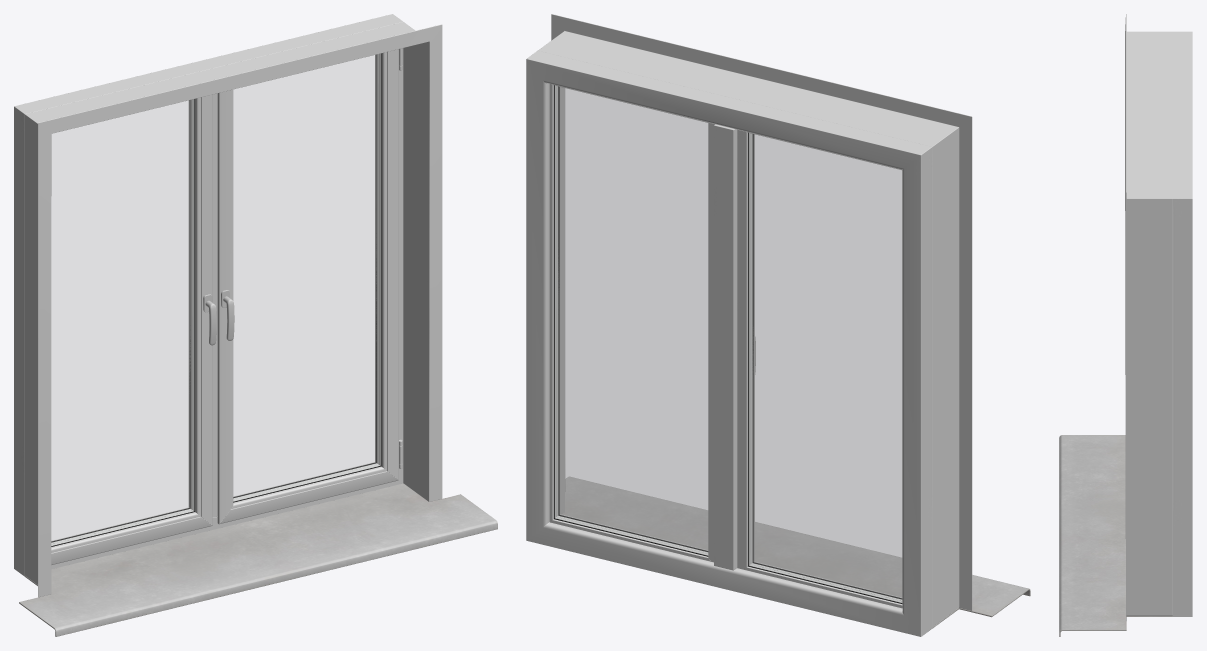
File: window.glb
3 renders of one model, left to right at view 1: azimuth 30°, elevation 25°; view 2: azimuth 150°, elevation 25°; view 3: azimuth 270°, elevation 25°, orthographic. The views are drawn at different scales.
Parts seen in each view (by area): view 1: InnerGlasses.001, InnerGlasses, OuterGlasses.001, OuterGlasses, WindowOuterFrame, WindowBottomFrame, Plane.025, Plane.023, Plane.029, Plane.028, Plane.024, Plane.032 (+3 smaller); view 2: OuterGlasses.001, OuterGlasses, InnerGlasses.001, InnerGlasses, Plane.023, WindowOuterFrame, WindowBottomFrame, Plane.024, Plane.029, Plane.025, Plane.028, Plane.032 (+2 smaller); view 3: WindowOuterFrame, WindowBottomFrame, Plane.023.
Boxes of the visible parts, x1,y1,x2,y2 form: InnerGlasses.001: (233,54,380,500); InnerGlasses: (51,99,193,545); OuterGlasses.001: (234,55,376,496); OuterGlasses: (52,101,189,540); WindowOuterFrame: (25,22,442,597); WindowBottomFrame: (19,483,497,636); Plane.025: (217,48,402,524); Plane.023: (14,14,403,576); Plane.029: (51,94,212,564); Plane.028: (51,99,194,545); Plane.024: (212,93,217,517); Plane.032: (233,53,380,501); OuterGlasses.001: (555,86,707,555); OuterGlasses: (749,133,901,602); InnerGlasses.001: (559,87,707,551); InnerGlasses: (753,135,901,598); Plane.023: (526,50,932,636); WindowOuterFrame: (538,14,972,626); WindowBottomFrame: (562,476,1030,628); Plane.024: (714,124,737,570); Plane.029: (737,129,902,608); Plane.025: (549,84,714,562); Plane.028: (748,133,902,602); Plane.032: (554,85,708,555); WindowOuterFrame: (1125,14,1172,621); WindowBottomFrame: (1059,435,1172,636); Plane.023: (1173,31,1192,616).
Size of the model in its own units: 1.4 by 1.46 by 0.404.
2 materials, 1 textured.
